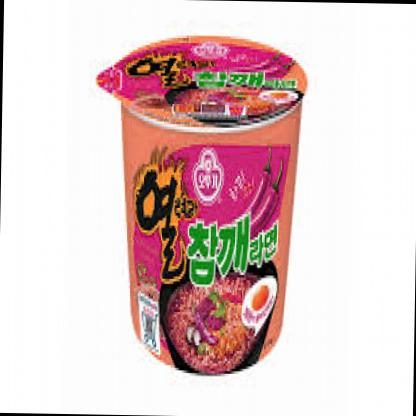Ramen: (113, 37, 300, 365)
